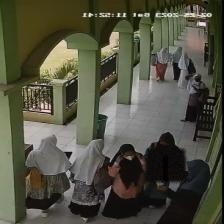Cadar_Niqab: (144, 130, 186, 181)
